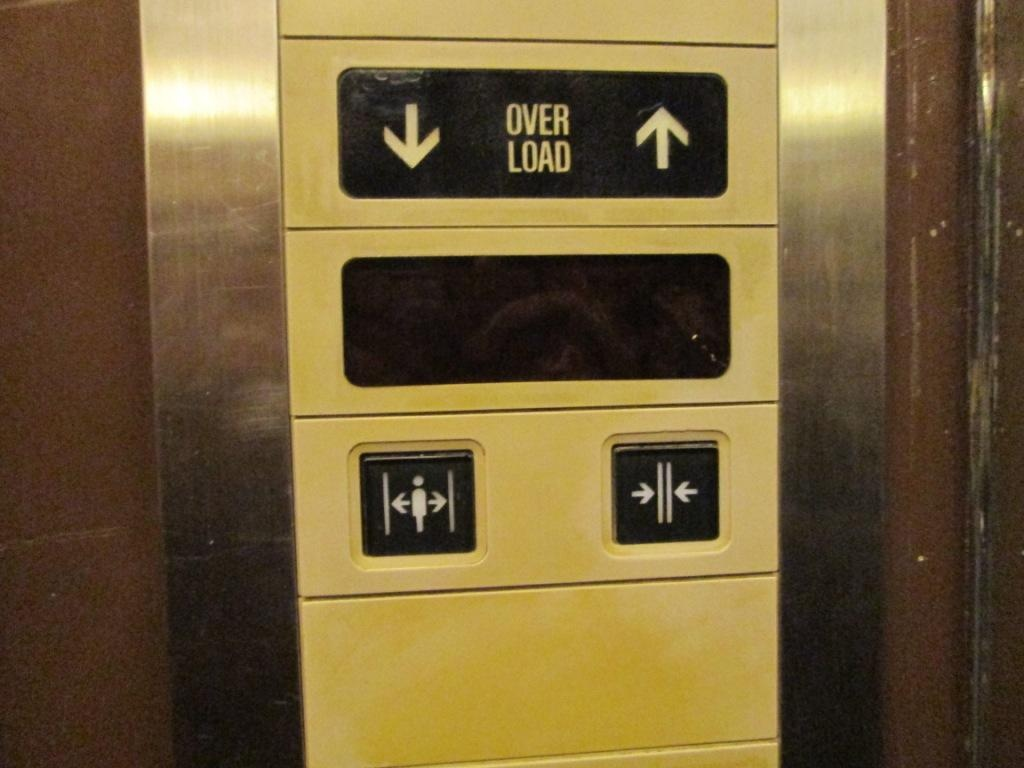close: (600, 431, 734, 557)
led: (342, 255, 731, 388), (337, 66, 729, 197)
open: (350, 439, 490, 567)
